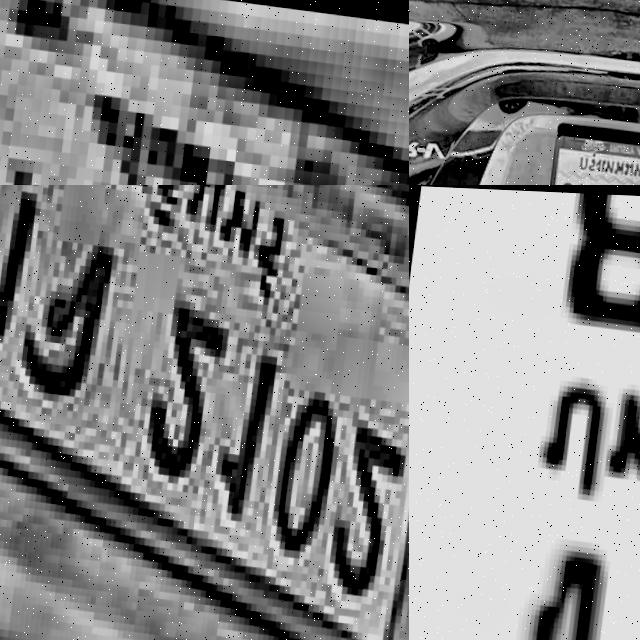license-plate: (0, 185, 409, 640), (409, 185, 640, 640), (0, 0, 409, 185), (546, 129, 640, 185)
